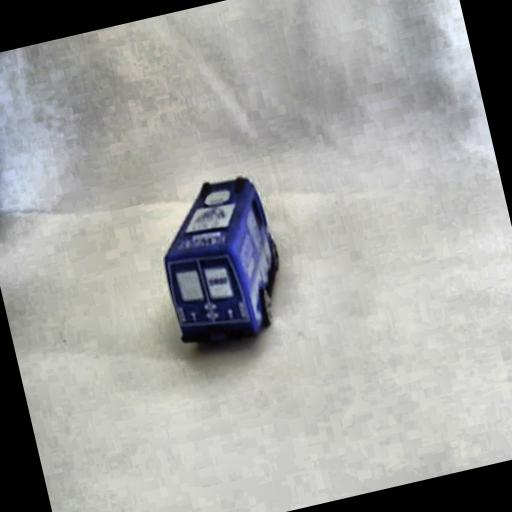police car: (148, 164, 297, 358)
